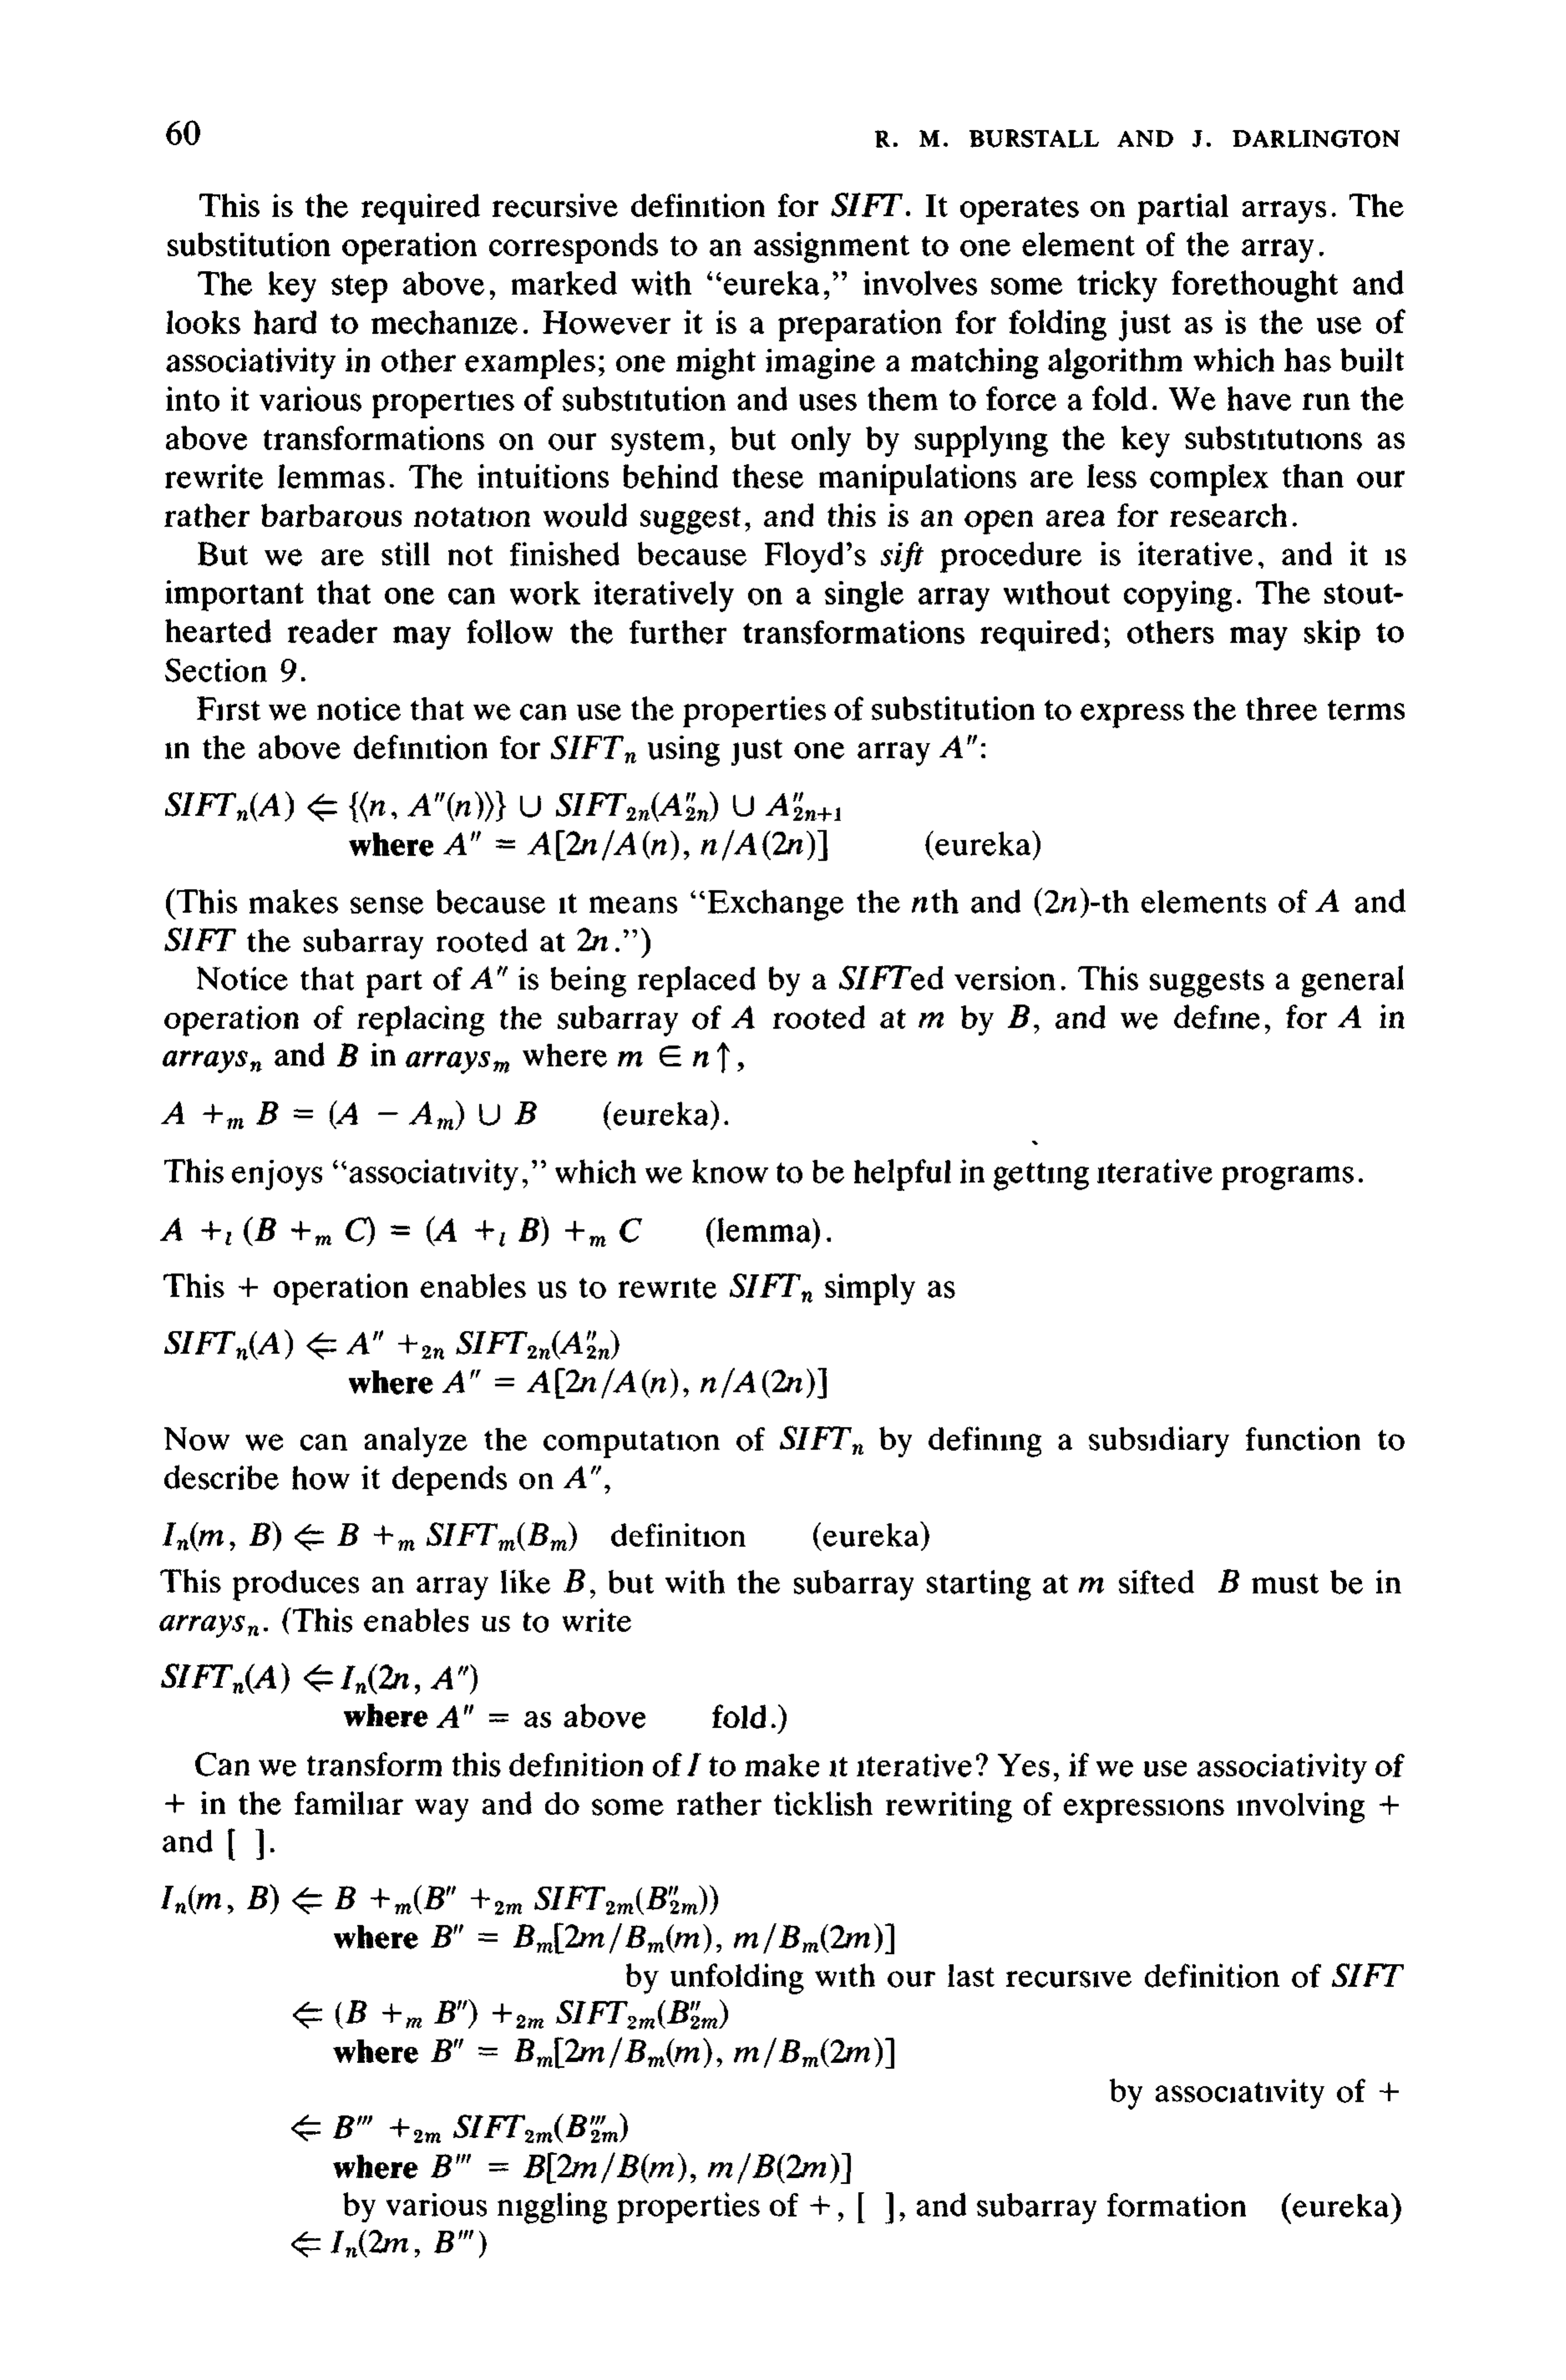maths: (166, 792, 841, 823), (161, 1884, 718, 1915), (432, 1922, 895, 1954), (432, 2038, 895, 2069), (161, 1216, 641, 1246), (164, 1330, 619, 1360), (432, 2153, 851, 2184), (294, 1999, 729, 2029), (163, 1522, 577, 1552), (444, 830, 827, 861), (442, 1368, 827, 1398), (161, 1101, 537, 1131), (161, 1662, 477, 1695), (292, 2113, 627, 2142), (292, 2230, 488, 2258), (619, 1041, 731, 1073), (731, 1274, 813, 1304), (551, 736, 636, 764), (780, 1426, 863, 1454), (405, 1052, 509, 1075), (163, 1050, 262, 1073), (159, 1615, 259, 1637), (164, 928, 236, 952), (437, 1704, 509, 1728), (830, 192, 898, 217), (1332, 1964, 1403, 1987), (1035, 888, 1089, 917), (227, 1828, 264, 1861), (858, 2191, 893, 2224), (577, 928, 619, 952), (470, 965, 507, 989), (939, 736, 977, 758), (731, 1005, 755, 1029), (1314, 889, 1339, 912), (1337, 1005, 1362, 1027), (563, 1466, 587, 1489), (563, 1569, 586, 1592), (337, 1043, 358, 1068), (1008, 1005, 1029, 1027), (1218, 1569, 1239, 1592), (1078, 1576, 1105, 1594), (809, 2195, 830, 2214), (919, 1012, 944, 1027), (239, 1277, 259, 1297), (166, 1795, 185, 1814), (1379, 1795, 1398, 1814), (1379, 2081, 1398, 2100), (559, 893, 577, 914), (687, 1753, 701, 1775), (912, 896, 928, 912)
